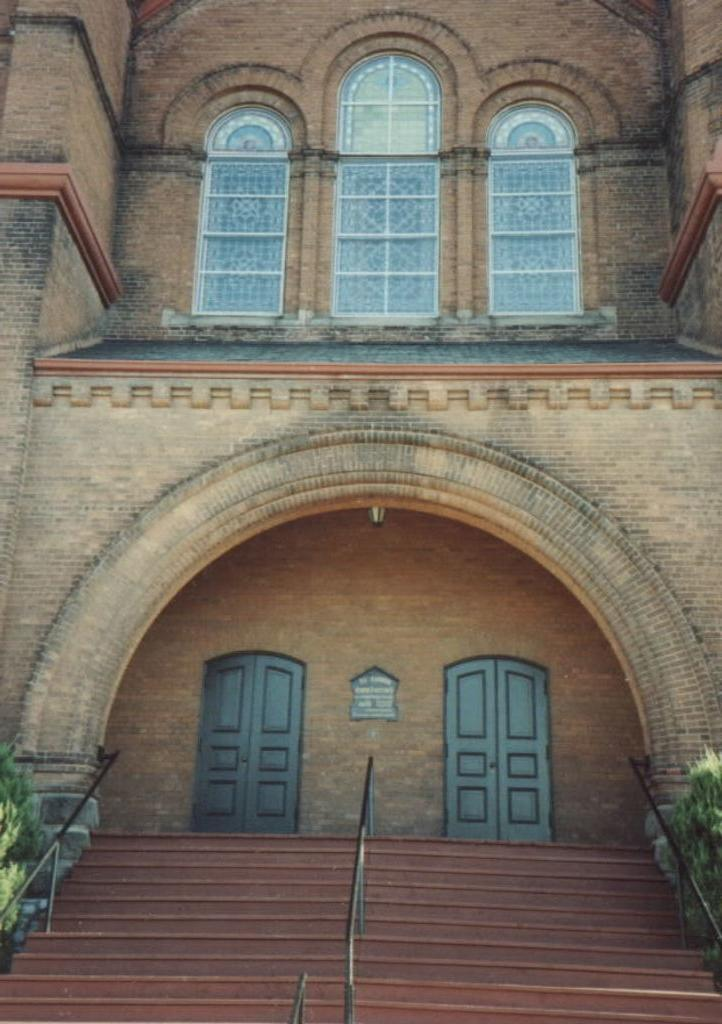door: (448, 652, 497, 838), (201, 668, 253, 824), (500, 664, 544, 839), (250, 668, 302, 814)
